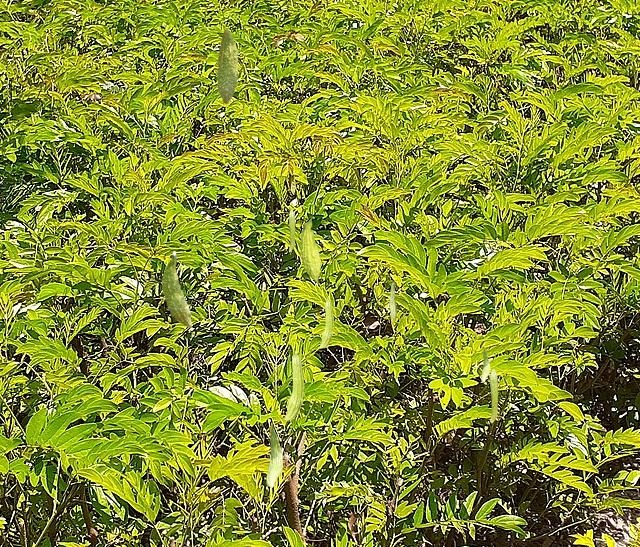ampalaya: (160, 250, 192, 328), (215, 29, 239, 104), (283, 350, 304, 420), (300, 216, 320, 285), (266, 422, 283, 489), (318, 296, 334, 348), (489, 368, 498, 423), (480, 346, 490, 383), (389, 282, 397, 321), (288, 208, 295, 251)
